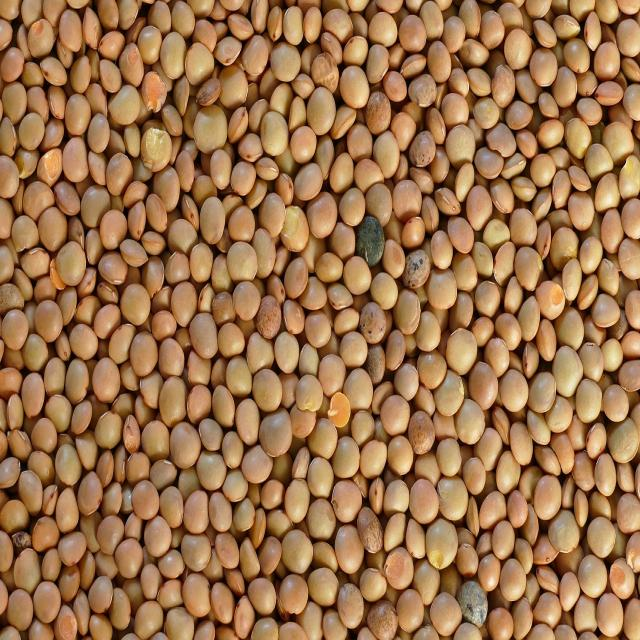arroz: (24, 39, 640, 560)
